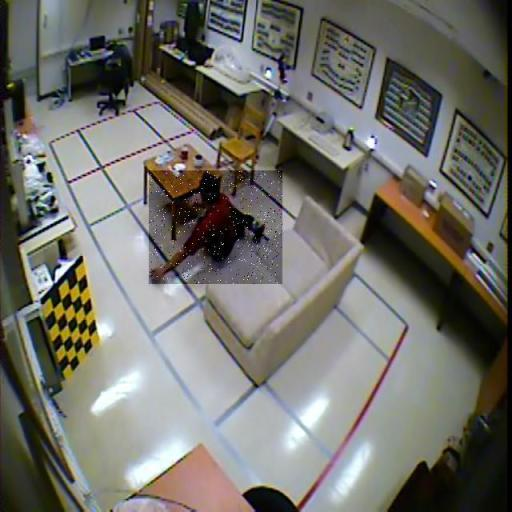Fall: (149, 170, 282, 284)
